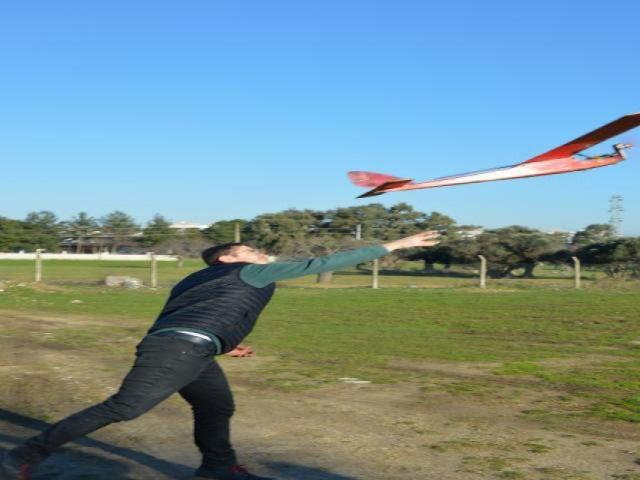iha: (344, 108, 640, 200)
